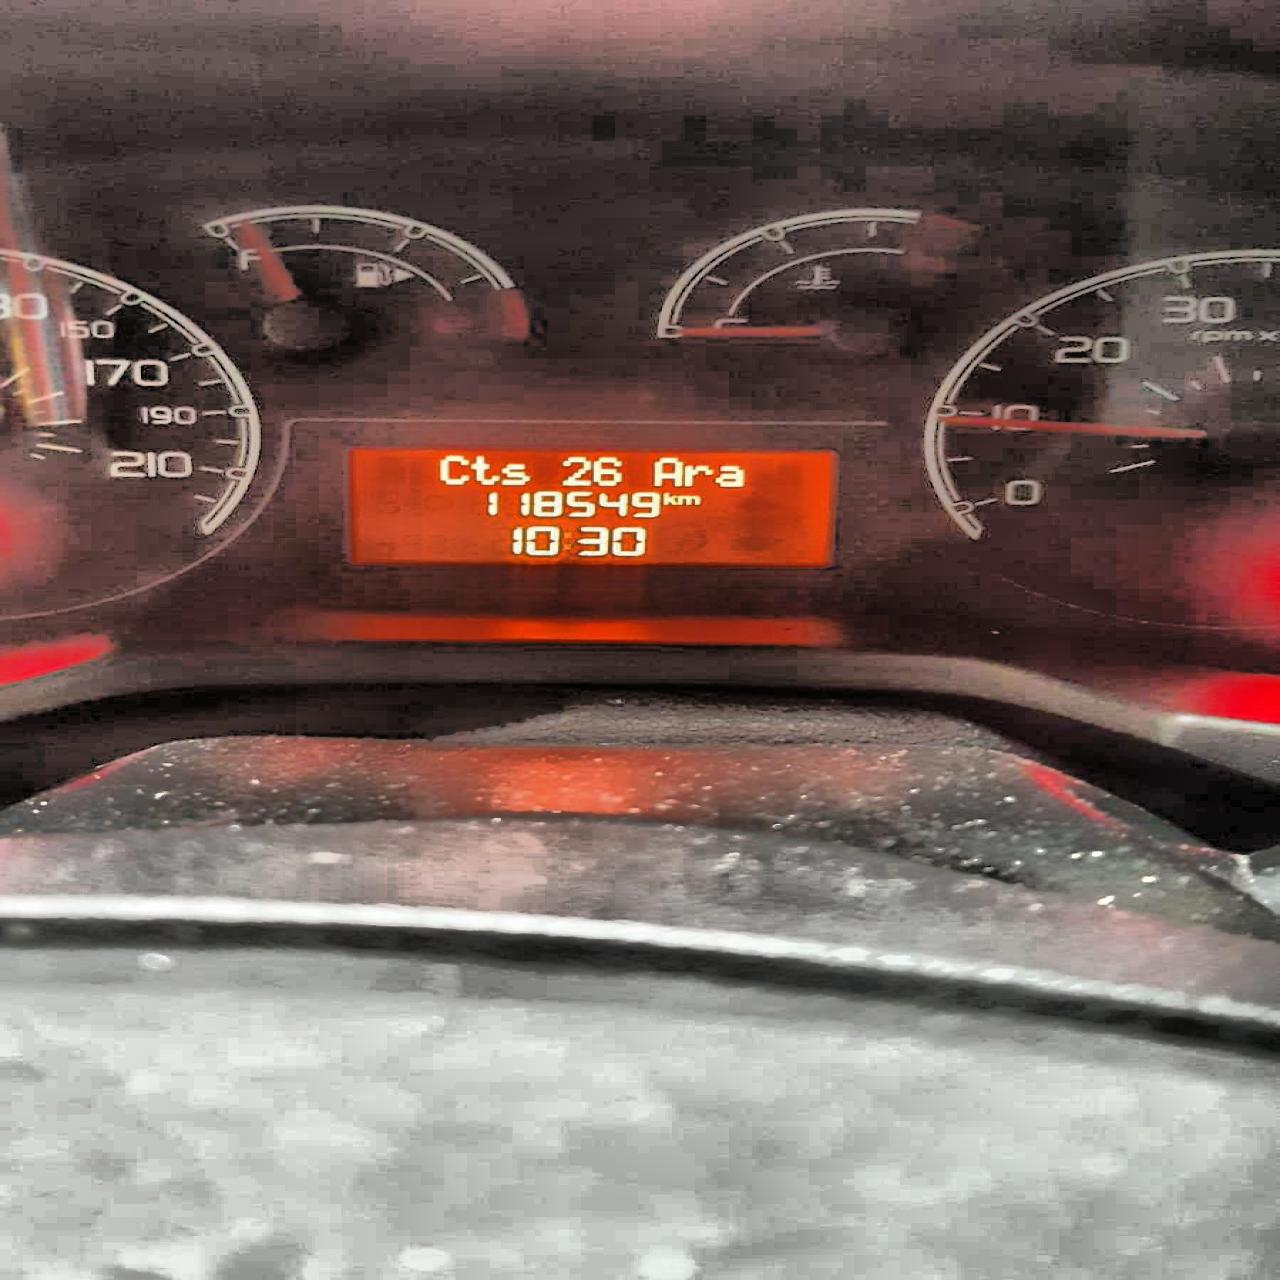0: (524, 525, 558, 556), (611, 525, 645, 556)
1: (510, 524, 523, 554), (485, 491, 499, 518), (517, 491, 531, 516)
2: (559, 455, 591, 485)
3: (578, 526, 608, 556)
4: (598, 491, 626, 516)
5: (565, 490, 595, 517)
6: (592, 455, 625, 489)
8: (532, 489, 560, 517)
9: (631, 491, 658, 517)
X: (437, 452, 471, 486), (651, 456, 682, 486), (470, 452, 498, 486), (498, 459, 531, 485), (683, 463, 714, 486), (715, 464, 743, 486), (675, 493, 700, 505), (661, 492, 676, 505)
odometer: (339, 440, 844, 570)
